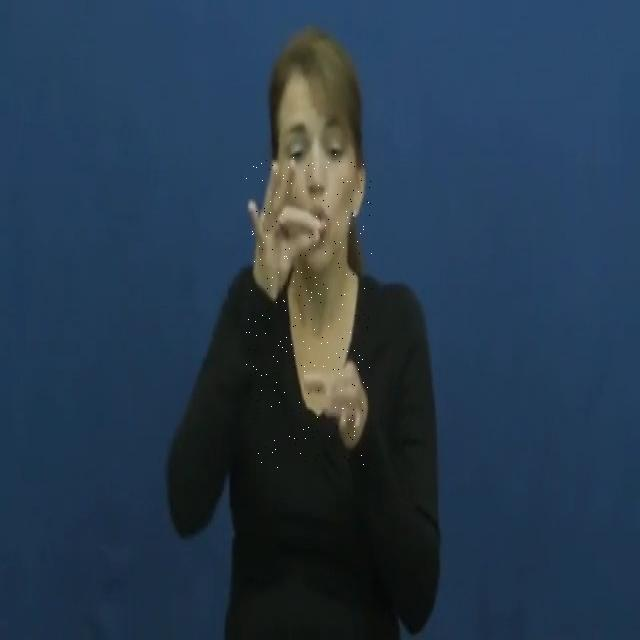straw: (246, 154, 374, 468)
